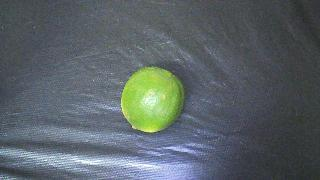LOCAL: (121, 67, 185, 133)
